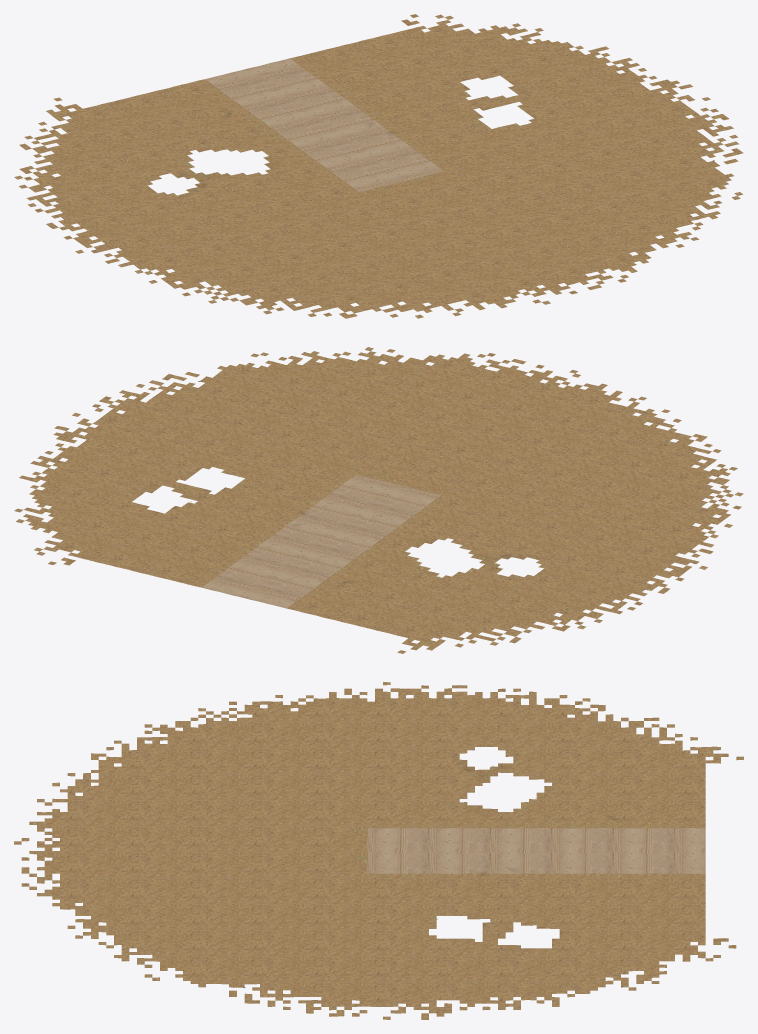
3 renders of one model, top to bottom at view 1: azimuth 30°, elevation 25°; view 2: azimuth 150°, elevation 25°; view 3: azimuth 270°, elevation 25°, orthographic. The views are drawn at different scales.
Parts seen in each view (by area): view 1: earth, road; view 2: earth, road; view 3: earth, road.
Boxes of the visible parts, x1,y1,x2,y2 form: earth: (14, 14, 743, 318); road: (205, 58, 443, 191); earth: (14, 347, 743, 653); road: (202, 474, 440, 608); earth: (14, 682, 743, 1019); road: (367, 828, 705, 873).
Bounding box in the file's own units: 52 × 0.3791 × 47.5.
5 materials, 3 textured.
